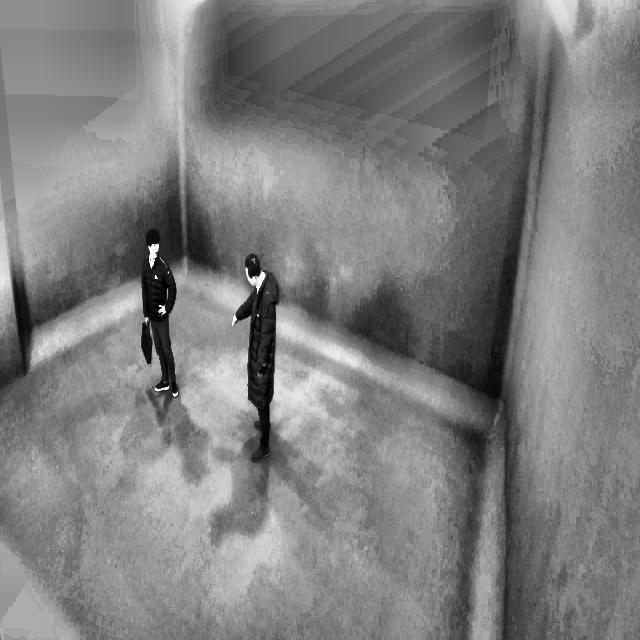assult: (142, 224, 278, 457)
